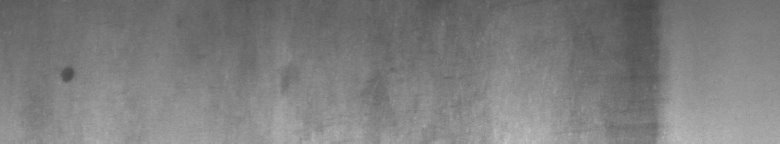fi: (56, 60, 75, 88)
